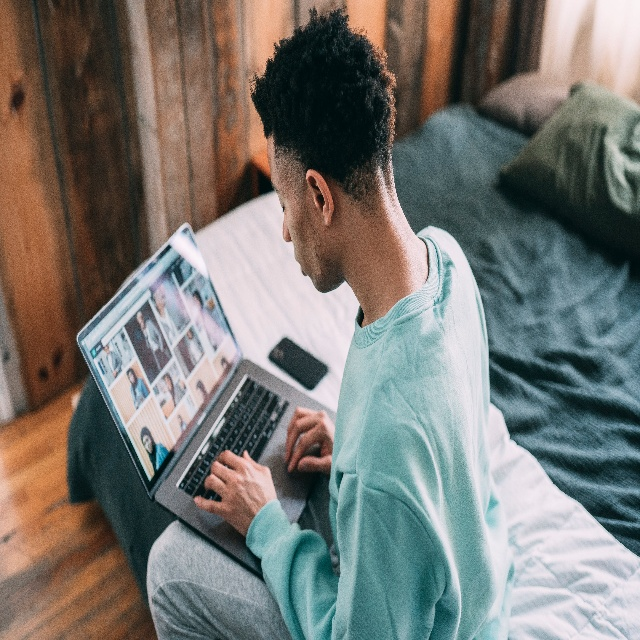Sin_guantes: (193, 448, 278, 542), (283, 405, 335, 480)
